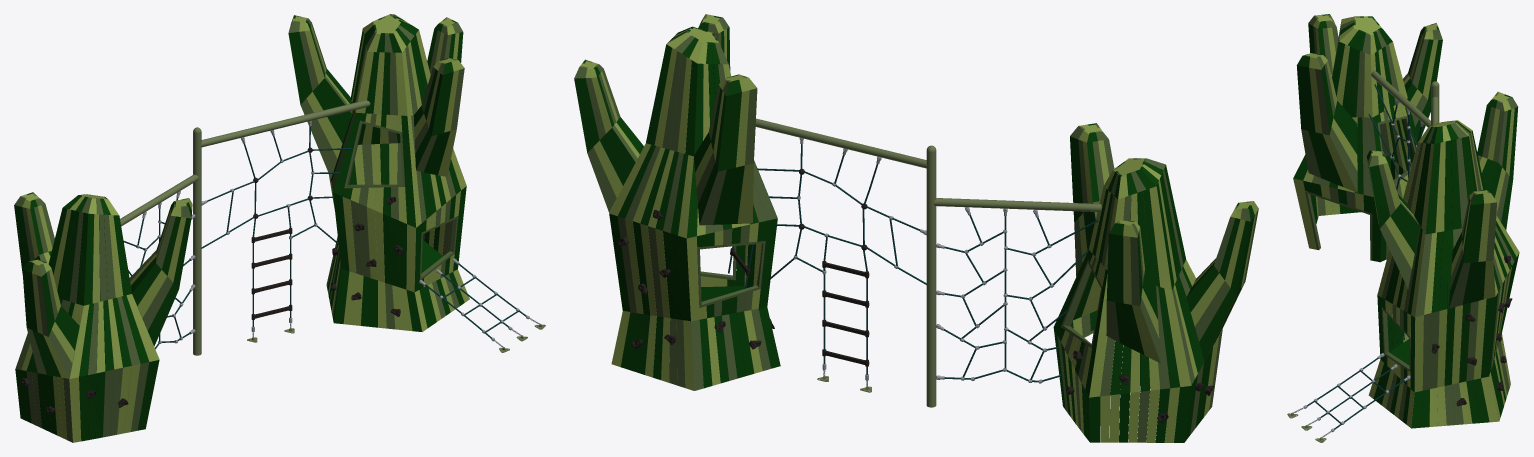
File: rgss-511-cactus.glb
3 renders of one model, left to right at view 1: azimuth 30°, elevation 25°; view 2: azimuth 150°, elevation 25°; view 3: azimuth 270°, elevation 25°, orthographic. The views are drawn at different scales.
Visible parts, largest first — view 1: Body1001, Body116, Body1002, Body1, Body1_GeomAdjust; view 2: Body1001, Body116, Body1002, Body1, Body1_GeomAdjust; view 3: Body1001, Body1002, Body116, Body1, Body1_GeomAdjust.
Part boxes in pixels (x1,y1,x2,y2): Body1001: [14, 14, 469, 442]; Body116: [120, 100, 545, 355]; Body1002: [123, 126, 526, 349]; Body1: [21, 147, 402, 413]; Body1_GeomAdjust: [136, 120, 541, 348]; Body1001: [574, 14, 1258, 442]; Body116: [755, 118, 1101, 407]; Body1002: [728, 144, 1098, 382]; Body1: [618, 169, 1213, 422]; Body1_GeomAdjust: [793, 137, 1053, 387]; Body1001: [1293, 14, 1519, 428]; Body1002: [1306, 84, 1422, 431]; Body116: [1287, 70, 1439, 442]; Body1: [1431, 256, 1512, 406]; Body1_GeomAdjust: [1292, 99, 1423, 438].
Bounding box in the file's own units: 6.33 × 3.31 × 2.51.
Materials: 5 (5 with a texture image).
